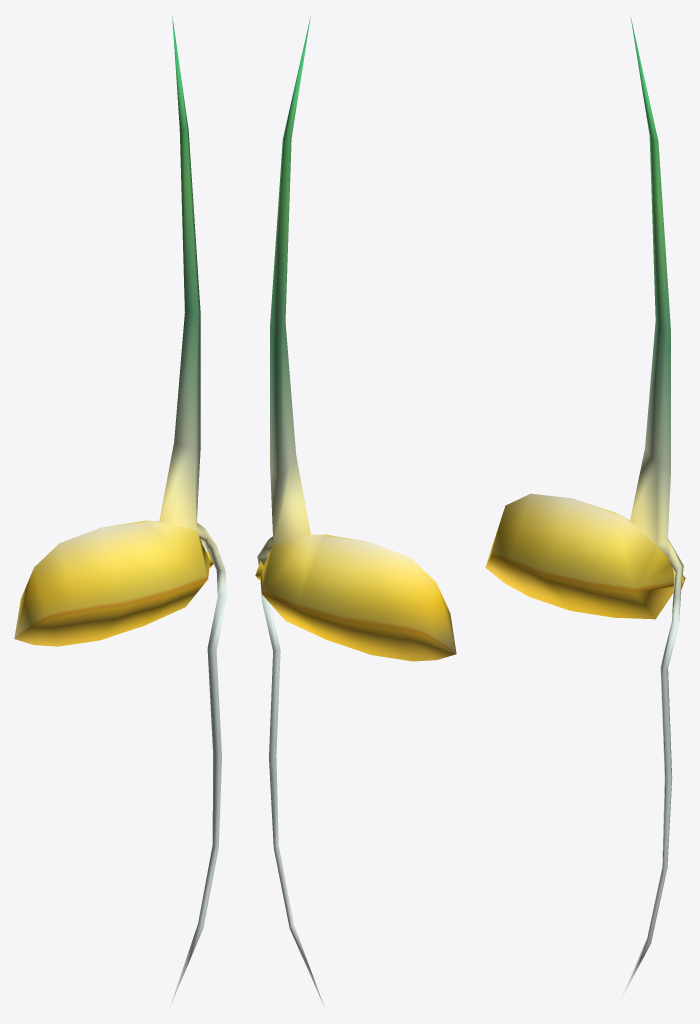
File: Rice2_LOD.fbx
3 renders of one model, left to right at view 1: azimuth 30°, elevation 25°; view 2: azimuth 150°, elevation 25°; view 3: azimuth 330°, elevation 25°, orthographic.
Visible parts, largest first — view 1: Rice2_LOD0; view 2: Rice2_LOD0; view 3: Rice2_LOD0.
Part boxes in pixels (bbox=[...]): Rice2_LOD0: bbox=[14, 16, 226, 1007]; Rice2_LOD0: bbox=[255, 15, 456, 1006]; Rice2_LOD0: bbox=[485, 17, 685, 1006].
Size of what is drawn, in the model's own units: 35.66 by 167 by 16.97.
Materials: 1 (1 with a texture image).
